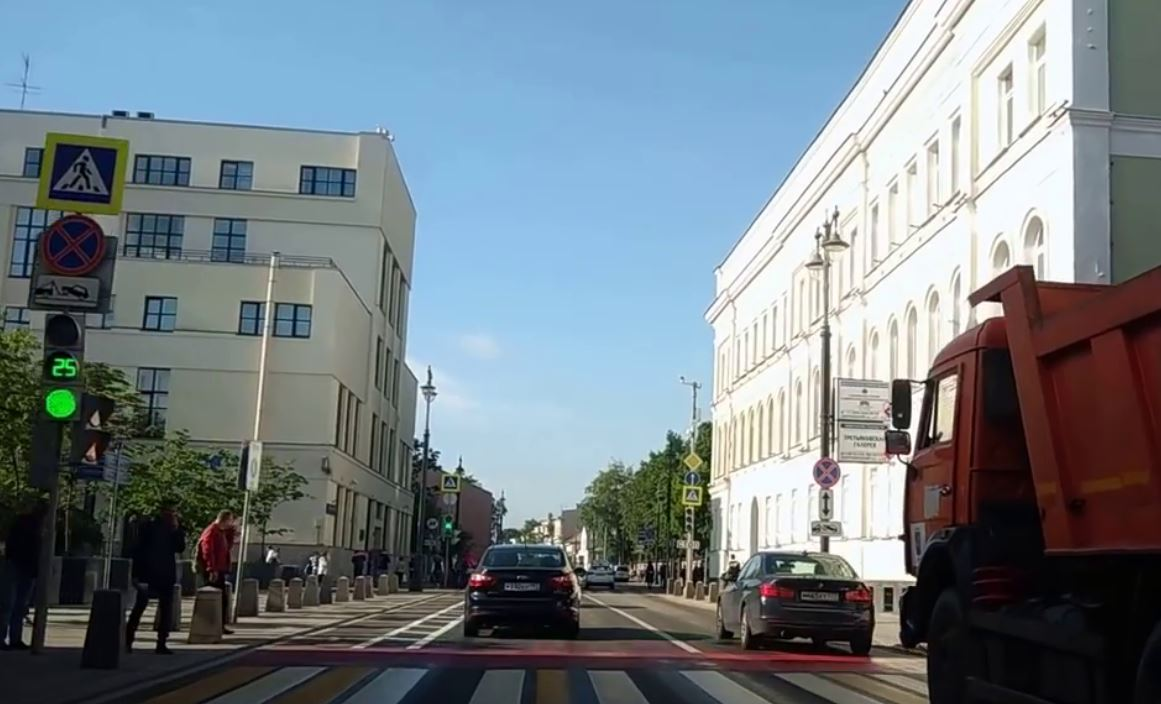Yaya Gecidi: (54, 144, 117, 201)
